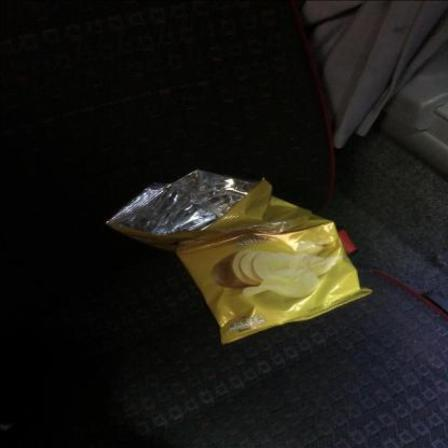Plastic bag - wrapper: (106, 169, 374, 345)
